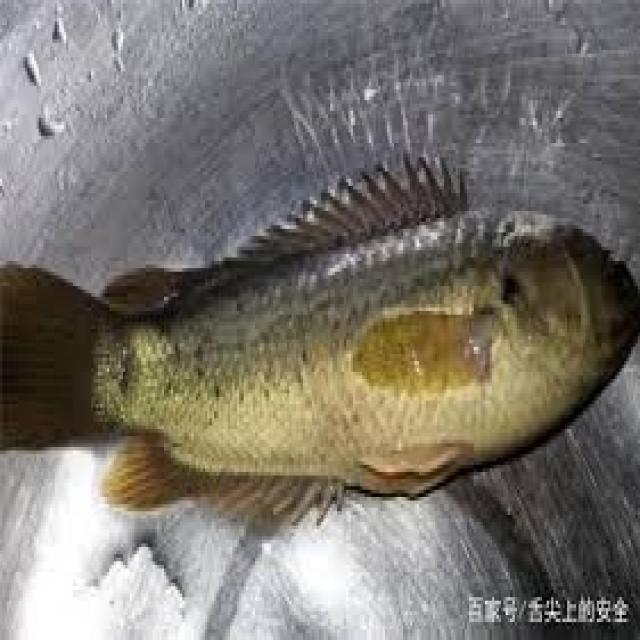Climbing-Perch: (0, 154, 640, 543)
